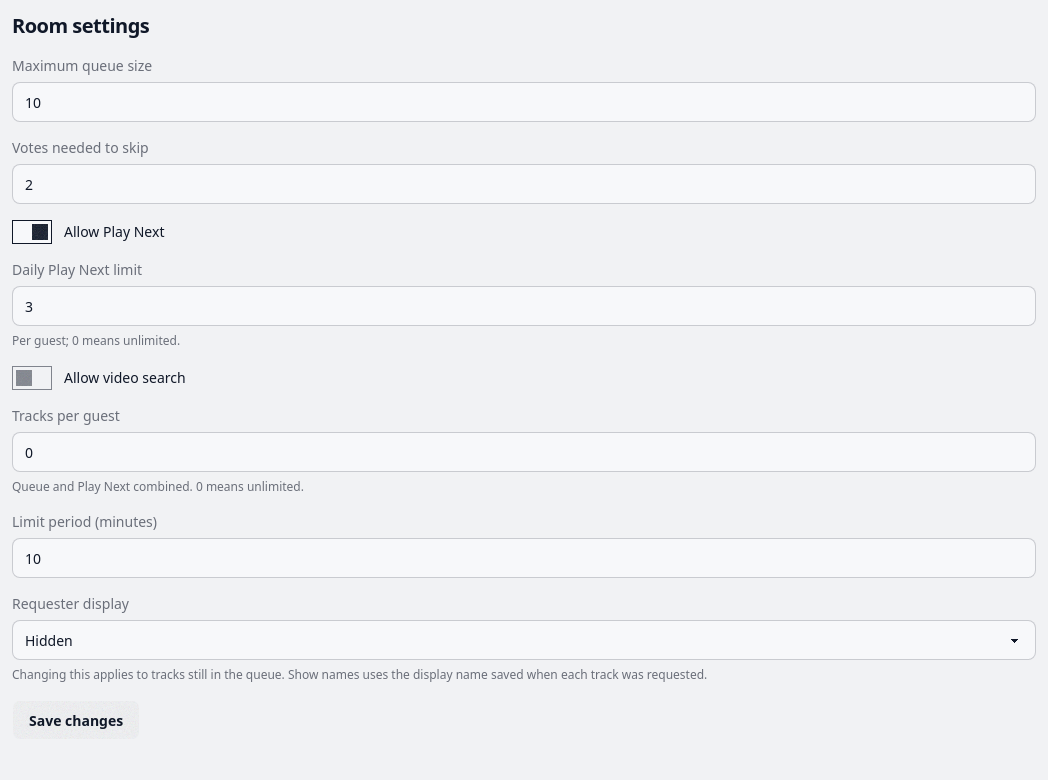
retains the Play Next limit and draft through a failed save
The image size is (1048, 780).
Later steps or results of the test are not shown.
Step 1. Click the checkbox labelled "Allow Play Next" → (32, 232), box [12,220,52,244]
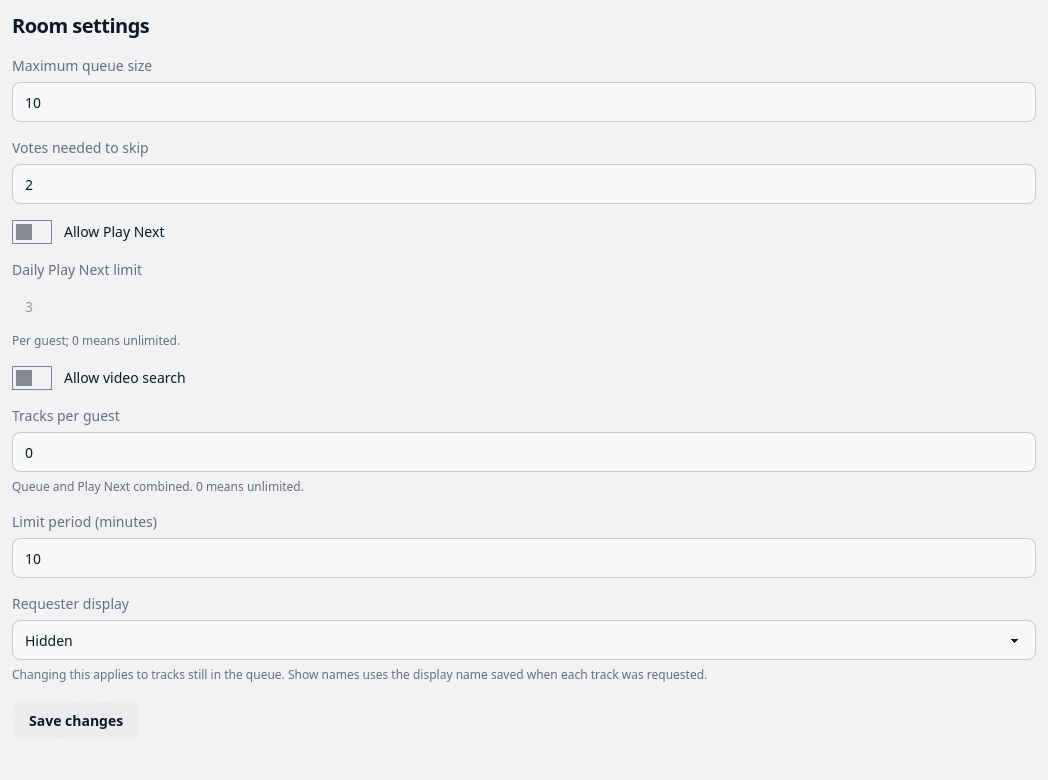
Check: the number field labelled "Daily Play Next limit" holds "3", box [12,286,1036,326]
Check: the number field labelled "Daily Play Next limit" is disabled, box [12,286,1036,326]
